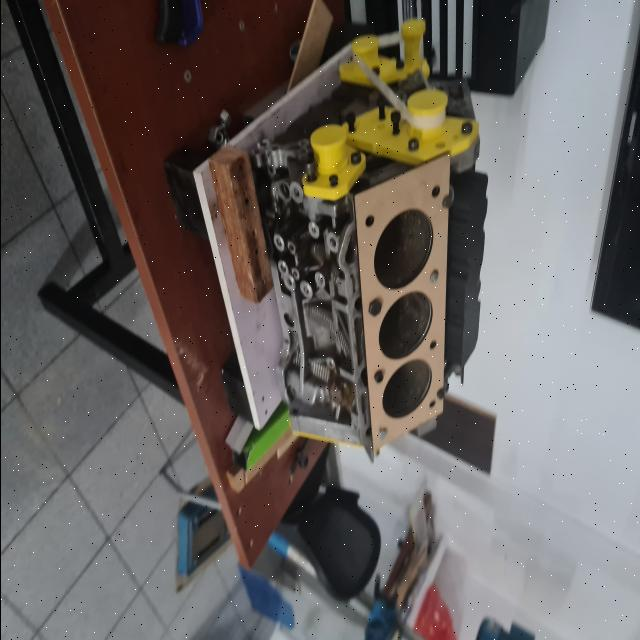vista1: (353, 151, 450, 454)
